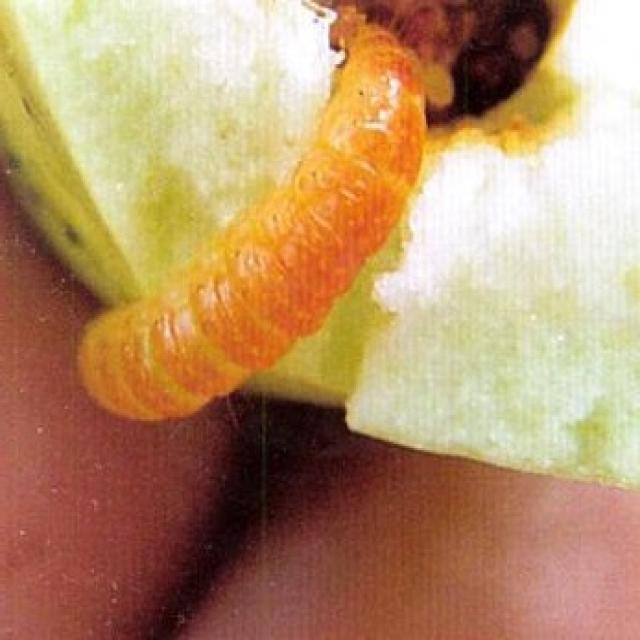peach borer: (65, 25, 447, 436)
